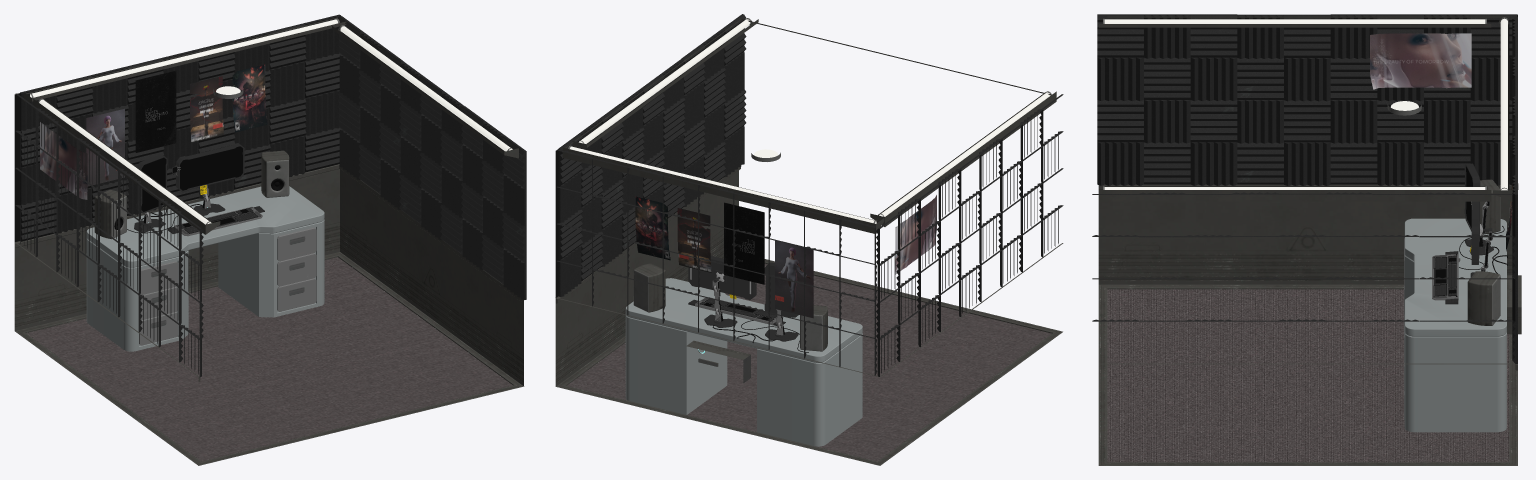
The model's file is sci-fi_computer_room.glb.
3 renders of one model, left to right at view 1: azimuth 30°, elevation 25°; view 2: azimuth 150°, elevation 25°; view 3: azimuth 270°, elevation 25°, orthographic. The views are drawn at different scales.
Parts seen in each view (by area): view 1: Object_10, Object_7, Object_12, Object_2, Object_3, Object_8, Object_13, Object_6, Object_4; view 2: Object_10, Object_12, Object_7, Object_2, Object_3, Object_8, Object_13, Object_4, Object_6; view 3: Object_10, Object_7, Object_12, Object_2, Object_3, Object_8, Object_13, Object_4.
Boxes of the visible parts, left/top/right/bottom form: Object_10: left=15, top=14, right=526, bottom=377; Object_7: left=26, top=257, right=512, bottom=461; Object_12: left=14, top=17, right=524, bottom=465; Object_2: left=86, top=186, right=324, bottom=351; Object_3: left=40, top=64, right=267, bottom=199; Object_8: left=30, top=19, right=512, bottom=224; Object_13: left=134, top=143, right=244, bottom=232; Object_6: left=14, top=15, right=341, bottom=241; Object_4: left=168, top=206, right=264, bottom=236; Object_10: left=557, top=14, right=1063, bottom=376; Object_12: left=555, top=18, right=1063, bottom=465; Object_7: left=567, top=263, right=1051, bottom=461; Object_2: left=625, top=278, right=862, bottom=446; Object_3: left=635, top=195, right=936, bottom=318; Object_8: left=570, top=19, right=1050, bottom=223; Object_13: left=688, top=256, right=798, bottom=341; Object_4: left=688, top=297, right=785, bottom=325; Object_6: left=555, top=149, right=808, bottom=352; Object_10: left=1092, top=14, right=1517, bottom=363; Object_7: left=1107, top=289, right=1509, bottom=462; Object_12: left=1098, top=16, right=1521, bottom=465; Object_2: left=1404, top=218, right=1506, bottom=432; Object_3: left=1370, top=33, right=1512, bottom=251; Object_8: left=1104, top=18, right=1507, bottom=190; Object_13: left=1464, top=163, right=1493, bottom=277; Object_4: left=1432, top=251, right=1460, bottom=304.
Bounding box in the file's own units: 2.98 × 2.1 × 2.98.
11 materials, 7 textured.
